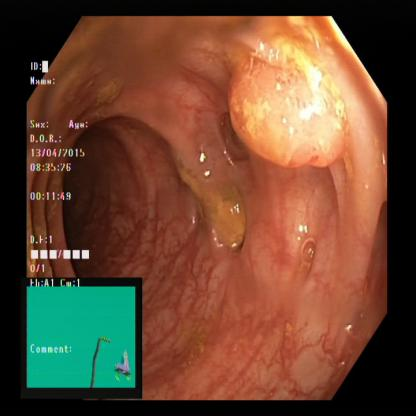Labels: (29, 56, 97, 291), (22, 274, 141, 399), (209, 193, 256, 257)
Polyps: (230, 43, 352, 170)
